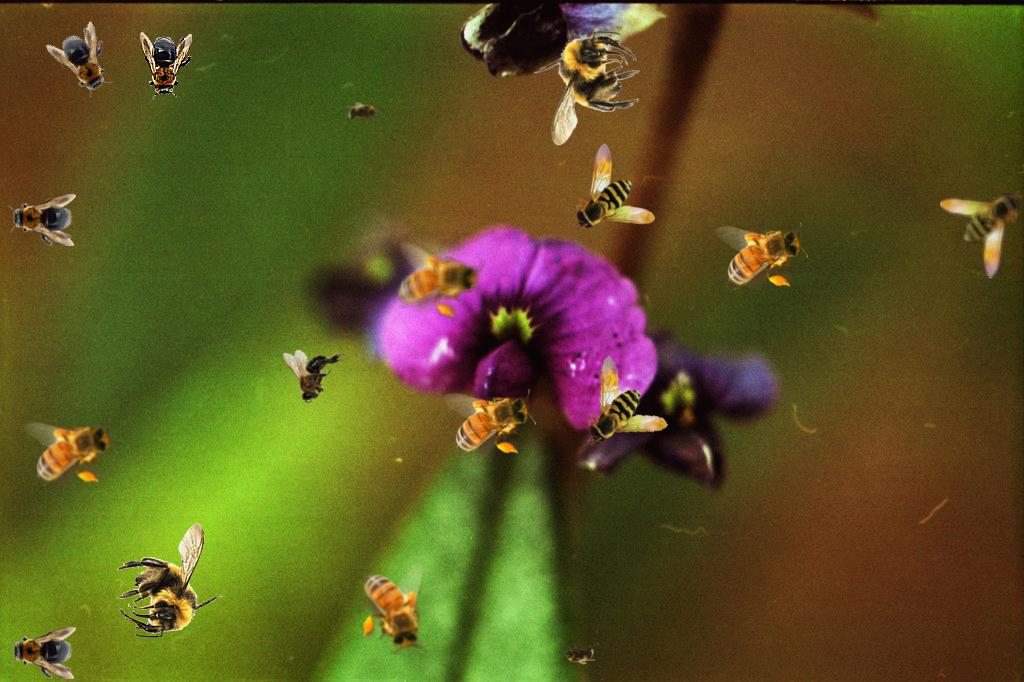Bee: (116, 523, 223, 638), (533, 31, 640, 146), (381, 235, 491, 328), (576, 349, 670, 447), (573, 143, 655, 231), (940, 191, 1022, 279), (45, 19, 125, 105), (715, 222, 808, 290), (443, 389, 536, 457), (359, 562, 427, 655), (24, 418, 117, 486), (140, 32, 192, 100), (8, 194, 76, 246), (8, 627, 76, 679), (283, 350, 345, 403), (559, 643, 599, 665), (343, 102, 383, 124)
